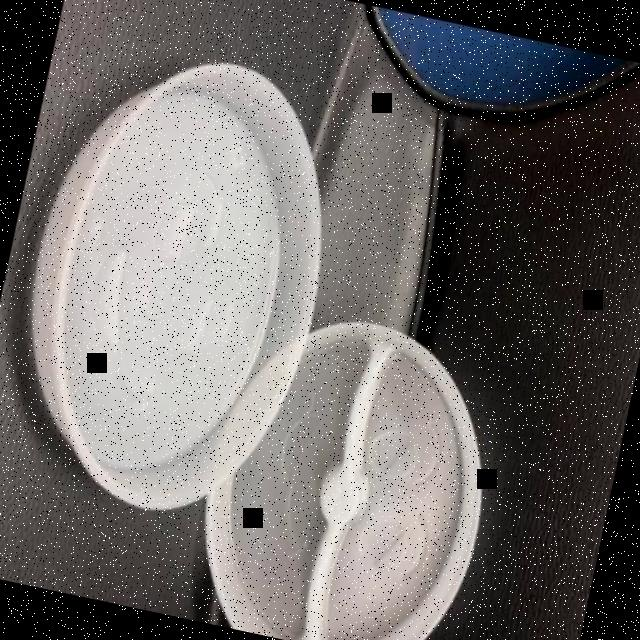plastic_box: (0, 33, 356, 534)
